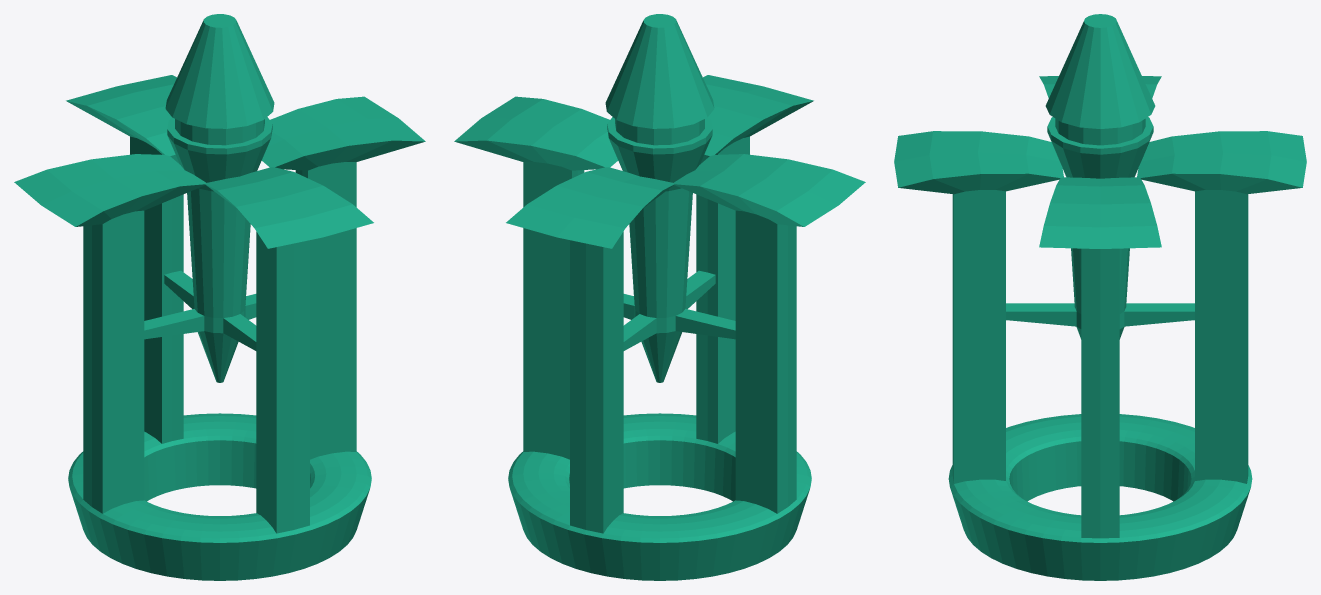
File: ArtPiece.fbx
3 renders of one model, left to right at view 1: azimuth 30°, elevation 25°; view 2: azimuth 150°, elevation 25°; view 3: azimuth 270°, elevation 25°, orthographic.
Parts seen in each view (by area): view 1: ArtPiece; view 2: ArtPiece; view 3: ArtPiece.
Boxes of the visible parts, x1=… form: ArtPiece: x1=14, y1=14, x2=425, y2=580; ArtPiece: x1=454, y1=14, x2=865, y2=580; ArtPiece: x1=894, y1=14, x2=1306, y2=580.
Size of the model in its own units: 290 by 392 by 290.
